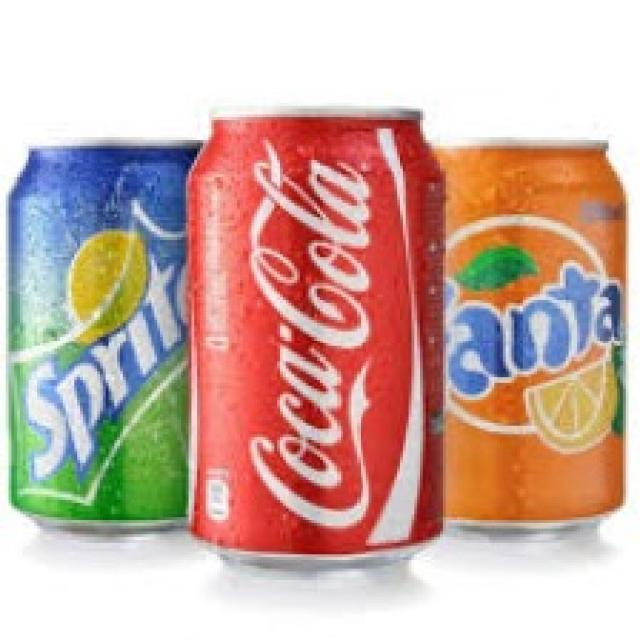metel: (190, 83, 449, 560), (445, 128, 626, 528), (1, 138, 178, 547)
